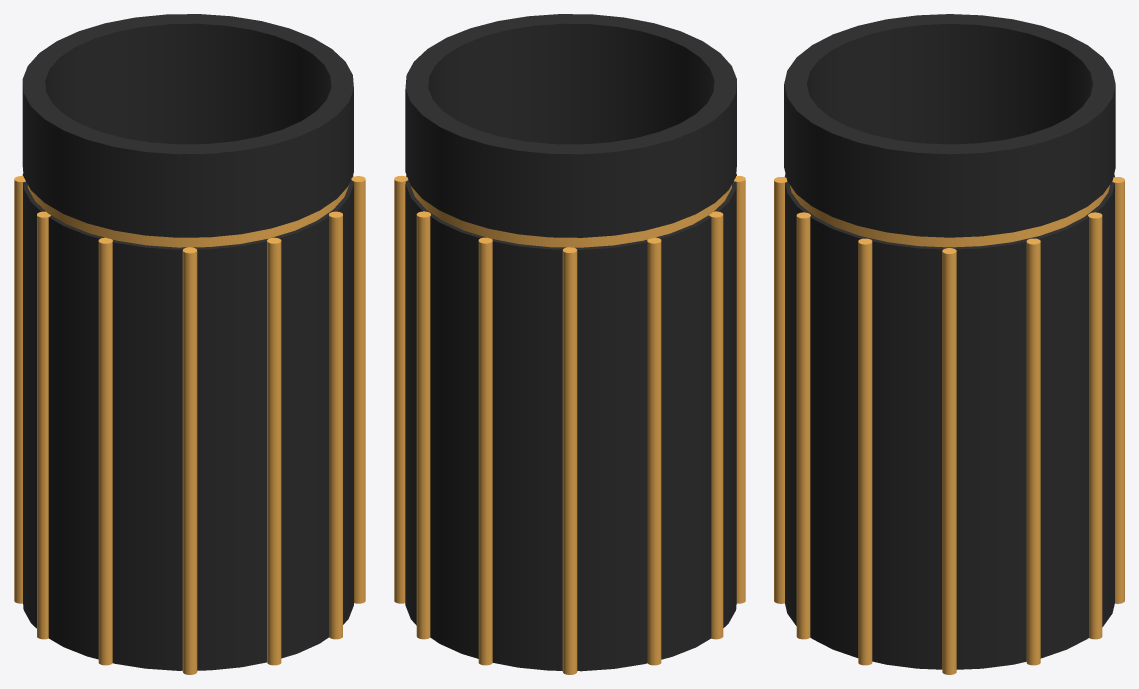
File: wall-washer-lamp.glb
The picture shows the model from 3 angles, left to right: view 1: azimuth 30°, elevation 25°; view 2: azimuth 150°, elevation 25°; view 3: azimuth 270°, elevation 25°; orthographic projection.
Parts seen in each view (by area): view 1: Circle; view 2: Circle; view 3: Circle.
Part boxes in pixels (x1=…): Circle: x1=14, y1=14, x2=365, y2=674; Circle: x1=394, y1=14, x2=745, y2=674; Circle: x1=774, y1=14, x2=1124, y2=674.
Size of the model in its own units: 0.147 by 0.2386 by 0.147.
